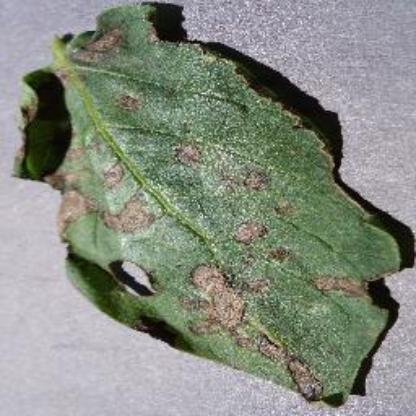Early-Blight: (12, 6, 406, 406)
